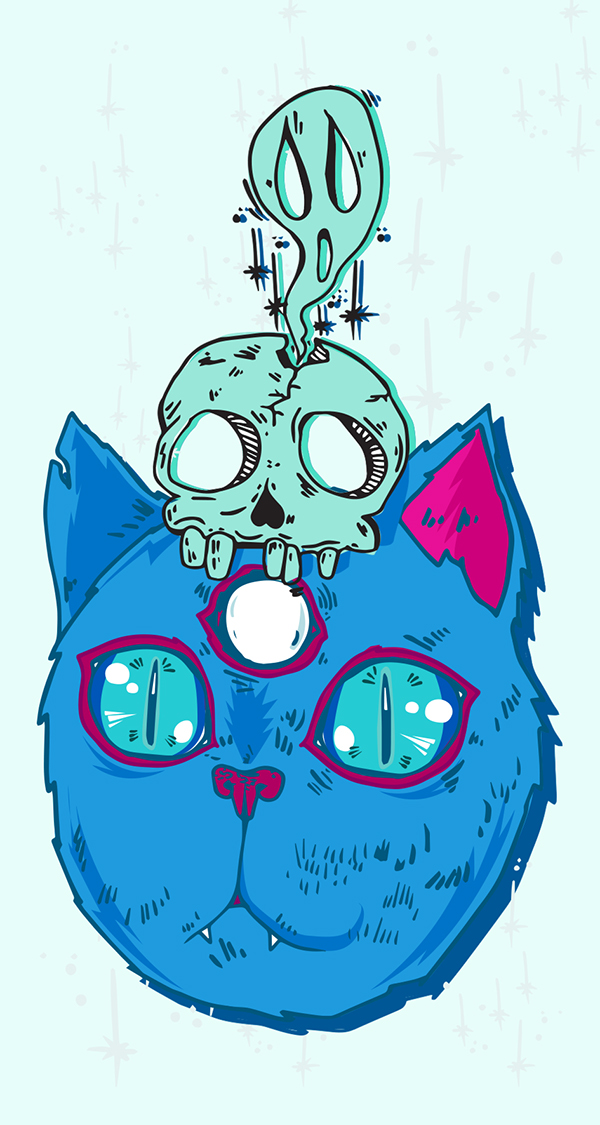cat: (19, 384, 591, 1033)
